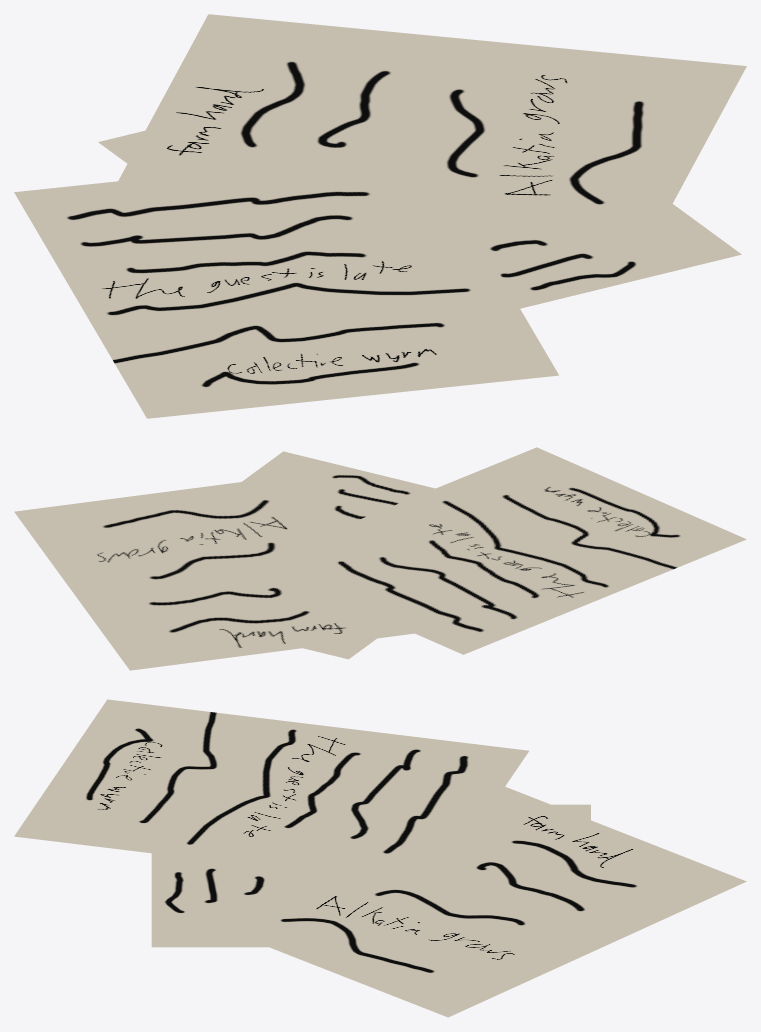
The model's file is strewn_paper.glb.
3 renders of one model, top to bottom at view 1: azimuth 30°, elevation 25°; view 2: azimuth 150°, elevation 25°; view 3: azimuth 270°, elevation 25°, orthographic. The views are drawn at different scales.
Parts seen in each view (by area): view 1: Plane.004; view 2: Plane.004; view 3: Plane.004.
Boxes of the visible parts, x1,y1,x2,y2 form: Plane.004: (14, 14, 746, 418); Plane.004: (14, 447, 746, 670); Plane.004: (14, 699, 746, 1017).
Bounding box in the file's own units: 1.34 × 0.0126 × 1.31.
1 material, 1 textured.
